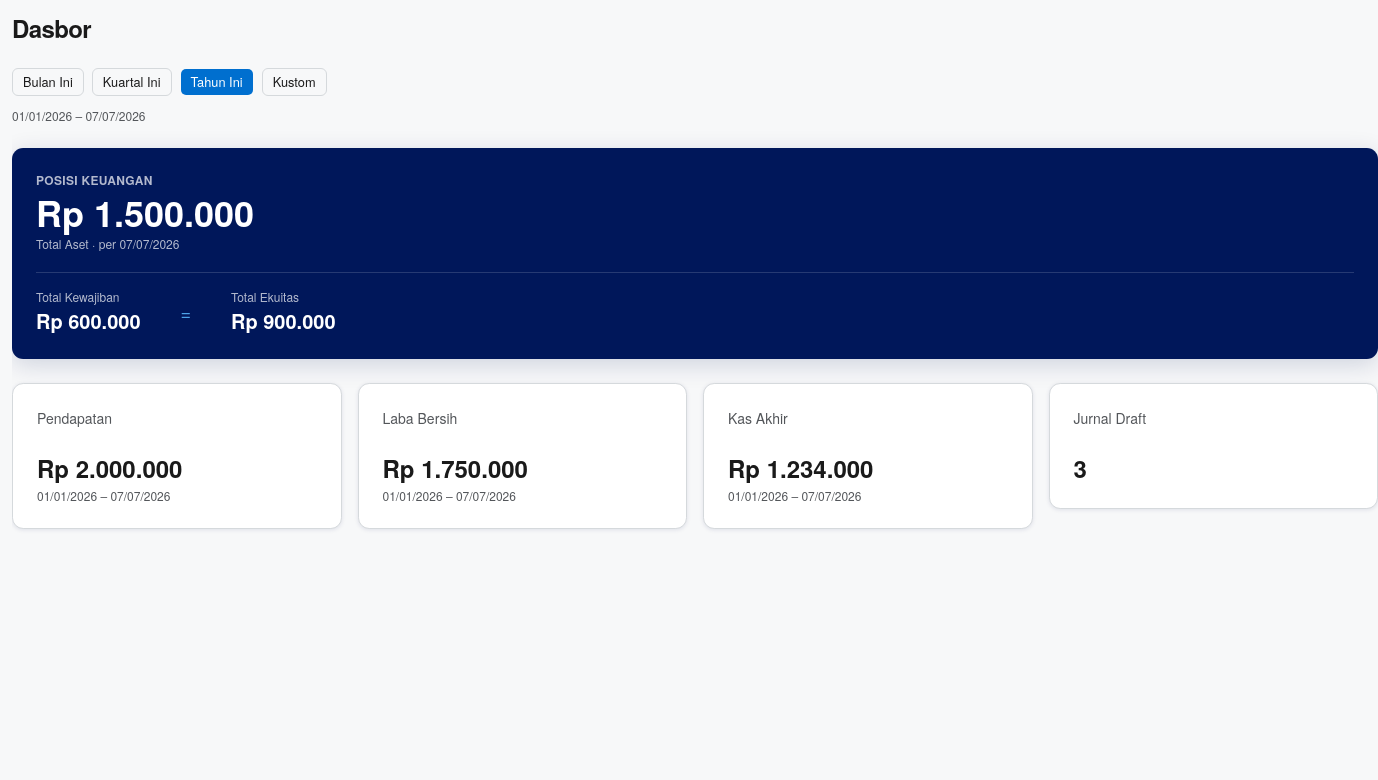
Test case: disables the period queries and shows a hint when the custom range is invalid
Expected: the text "Rp 1.750.000" is shown, [382,451,528,485]
Click the button "Kustom" at (294, 82), box [262,68,326,96]
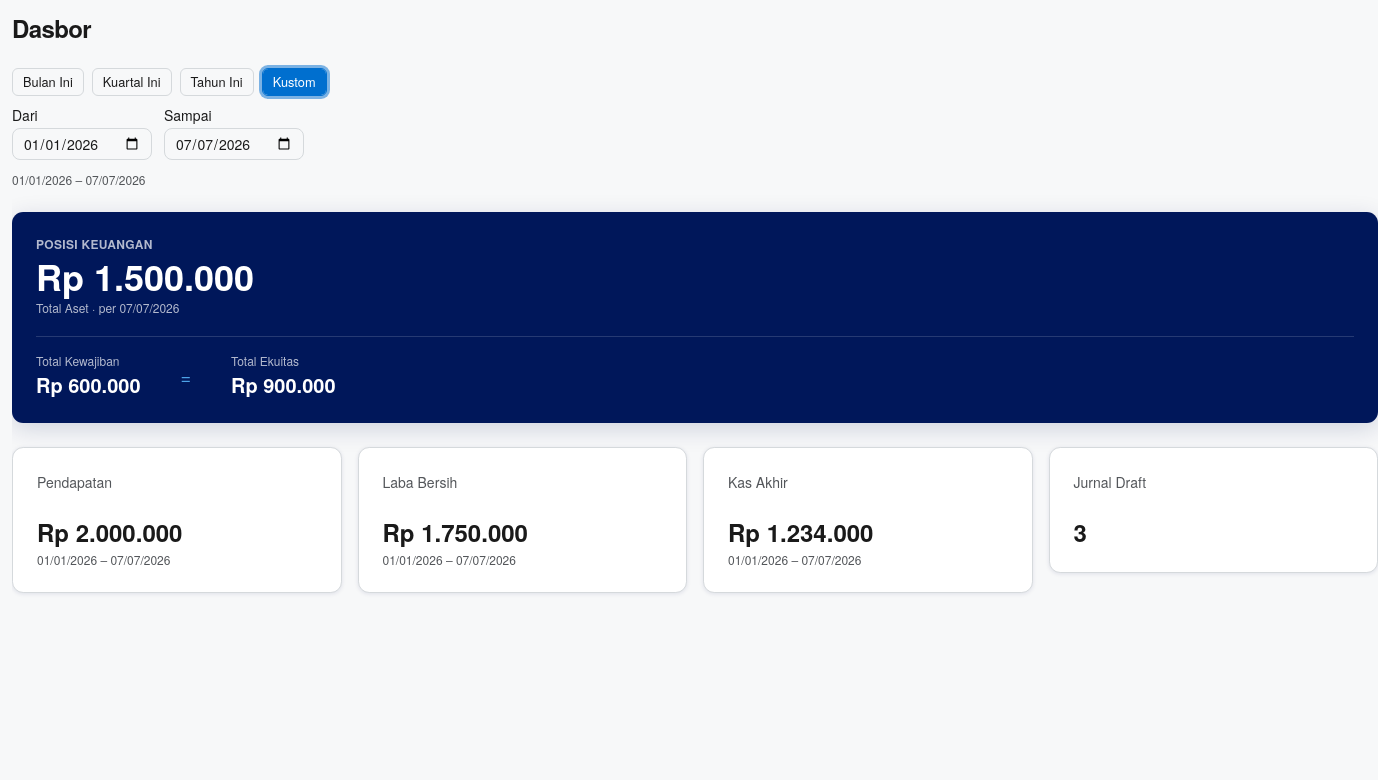
// 'Dari' after the current 'Sampai' (today) makes the range invalid.
Type "2026-12-01" into the date field labelled "Dari" at (82, 144), box [12,128,152,160]
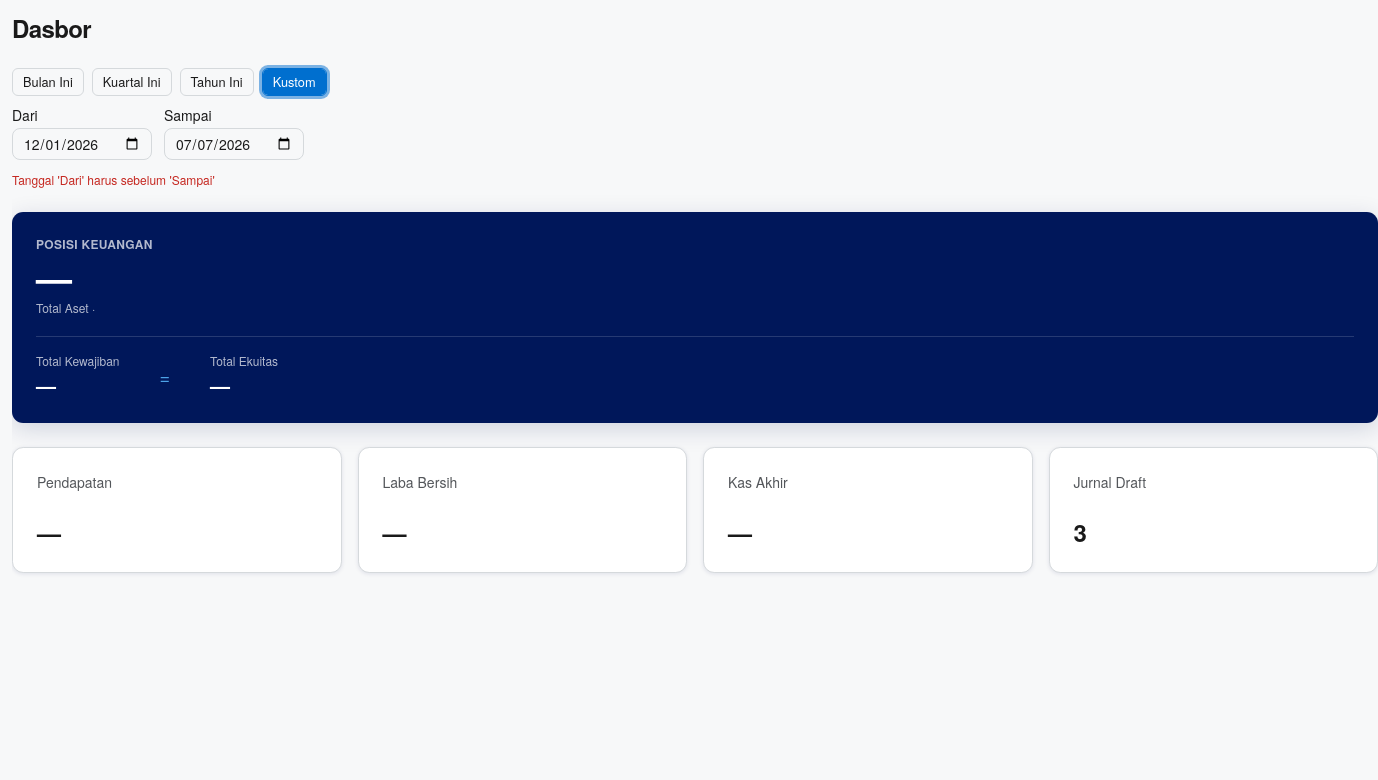
Expected: the text "Tanggal 'Dari' harus sebelum 'Sampai'" is shown, [12,171,215,188]
